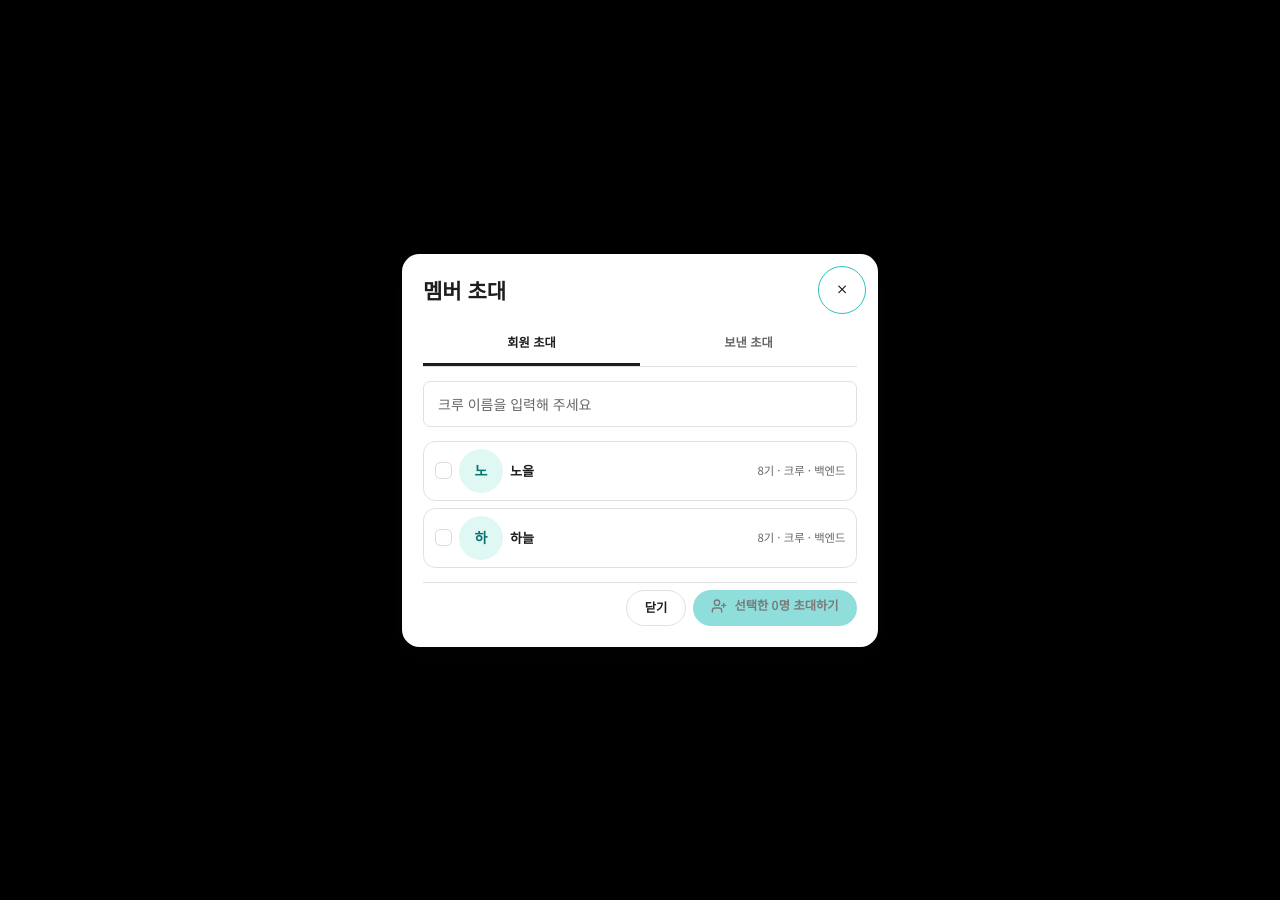
Test case: 내가 보낸 초대에는 각 수신자 이름을 표시하고 발신자 이름을 표시하지 않는다
Click the tab "보낸 초대": x=748, y=344 [640,322,857,366]
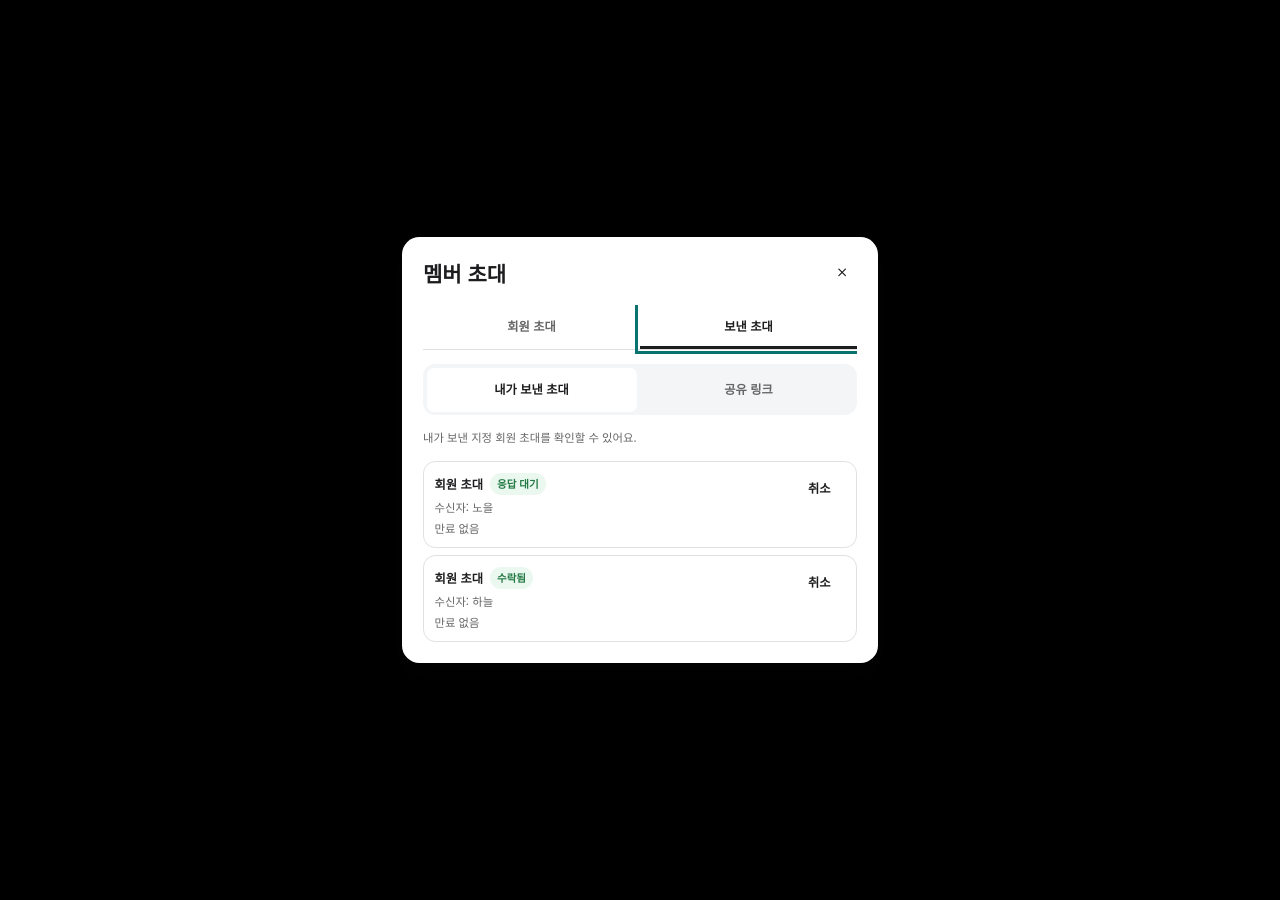
Expected: the text "수신자: 노을" is shown, [434,499,493,515]
Expected: the text "수신자: 하늘" is shown, [434,593,493,609]
